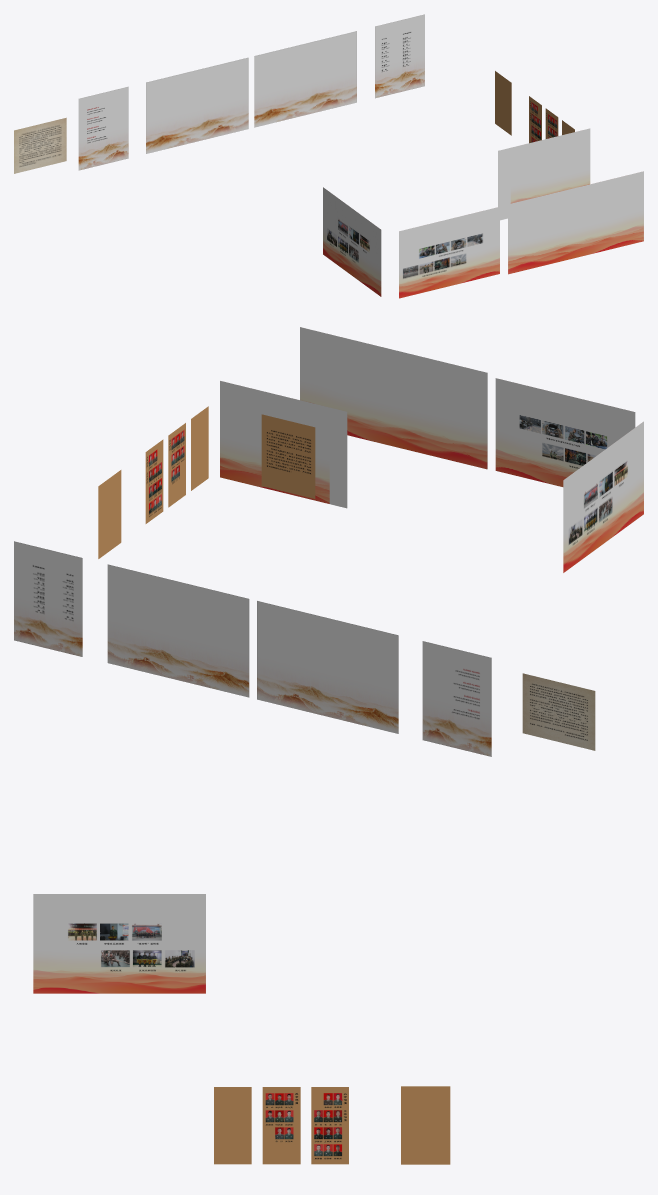
File: 警勤中队.fbx
3 renders of one model, top to bottom at view 1: azimuth 30°, elevation 25°; view 2: azimuth 150°, elevation 25°; view 3: azimuth 270°, elevation 25°, orthographic. The views are drawn at different scales.
Visible parts, largest first — view 1: 警勤中队_建设成就, 警勤中队_发展历程右, 警勤中队_发展历程左, 警勤中队_军营文化, 警勤中队_重大任务, 警勤中队_官兵风采, 警勤中队_历史沿革, 警勤中队_历任主官, 警勤中队_前言, 警勤中队_集体荣誉, 警勤中队_个人荣誉左; view 2: 警勤中队_建设成就, 警勤中队_发展历程右, 警勤中队_发展历程左, 警勤中队_军营文化, 警勤中队_重大任务, 警勤中队_官兵风采, 警勤中队_历史沿革, 警勤中队_历任主官, 警勤中队_前言, 警勤中队_未来寄语, 警勤中队_集体荣誉, 警勤中队_个人荣誉左 (+2 smaller); view 3: 警勤中队_官兵风采, 警勤中队_集体荣誉, 警勤中队_个人荣誉中, 警勤中队_个人荣誉右, 警勤中队_个人荣誉左.
Part boxes in pixels (left/top/right/bottom): 警勤中队_建设成就: left=508, top=171, right=643, bottom=274; 警勤中队_发展历程右: left=254, top=31, right=356, bottom=127; 警勤中队_发展历程左: left=146, top=57, right=248, bottom=153; 警勤中队_军营文化: left=399, top=207, right=499, bottom=298; 警勤中队_重大任务: left=498, top=128, right=590, bottom=220; 警勤中队_官兵风采: left=323, top=187, right=381, bottom=296; 警勤中队_历史沿革: left=78, top=86, right=128, bottom=170; 警勤中队_历任主官: left=375, top=14, right=424, bottom=98; 警勤中队_前言: left=14, top=117, right=66, bottom=173; 警勤中队_集体荣誉: left=495, top=71, right=511, bottom=135; 警勤中队_个人荣誉左: left=529, top=96, right=541, bottom=143; 警勤中队_建设成就: left=300, top=327, right=487, bottom=469; 警勤中队_发展历程右: left=107, top=564, right=249, bottom=697; 警勤中队_发展历程左: left=257, top=601, right=398, bottom=733; 警勤中队_军营文化: left=495, top=378, right=635, bottom=486; 警勤中队_重大任务: left=220, top=381, right=347, bottom=508; 警勤中队_官兵风采: left=563, top=421, right=643, bottom=572; 警勤中队_历史沿革: left=422, top=641, right=491, bottom=756; 警勤中队_历任主官: left=14, top=541, right=82, bottom=656; 警勤中队_前言: left=522, top=673, right=595, bottom=750; 警勤中队_未来寄语: left=261, top=414, right=315, bottom=498; 警勤中队_集体荣誉: left=98, top=470, right=121, bottom=558; 警勤中队_个人荣誉左: left=145, top=439, right=163, bottom=523; 警勤中队_官兵风采: left=33, top=894, right=205, bottom=993; 警勤中队_集体荣誉: left=401, top=1086, right=450, bottom=1164; 警勤中队_个人荣誉中: left=262, top=1087, right=300, bottom=1164; 警勤中队_个人荣誉右: left=214, top=1087, right=251, bottom=1164; 警勤中队_个人荣誉左: left=311, top=1087, right=348, bottom=1164.
Bounding box in the file's own units: 1325 × 216 × 1154.
